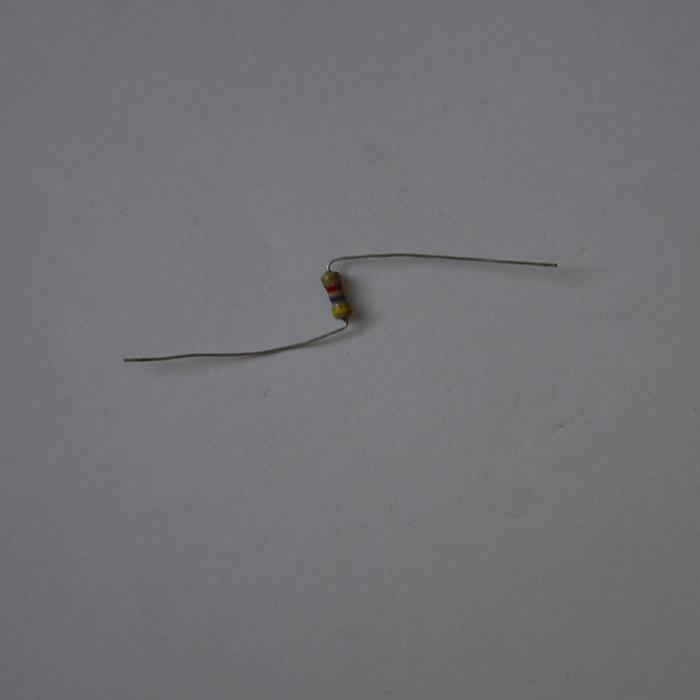resistor: (320, 268, 350, 319)
